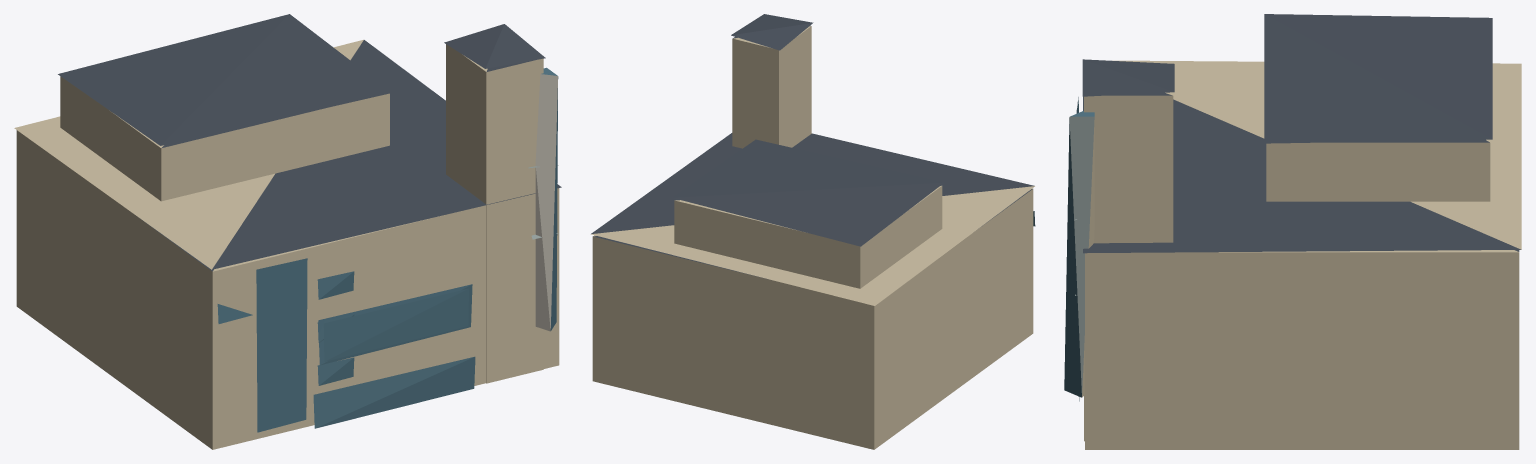
Rendered from pathe-city.lod2.glb.
The picture shows the model from 3 angles, left to right: view 1: azimuth 30°, elevation 25°; view 2: azimuth 150°, elevation 25°; view 3: azimuth 270°, elevation 25°; orthographic projection. The views are drawn at different scales.
Visible parts, largest first — view 1: lod2; view 2: lod2; view 3: lod2.
Boxes of the visible parts, left/top/right/bottom form: lod2: left=14, top=14, right=561, bottom=449; lod2: left=591, top=14, right=1035, bottom=449; lod2: left=1064, top=14, right=1521, bottom=449.
Bounding box in the file's own units: 36.59 × 31.5 × 37.31.
